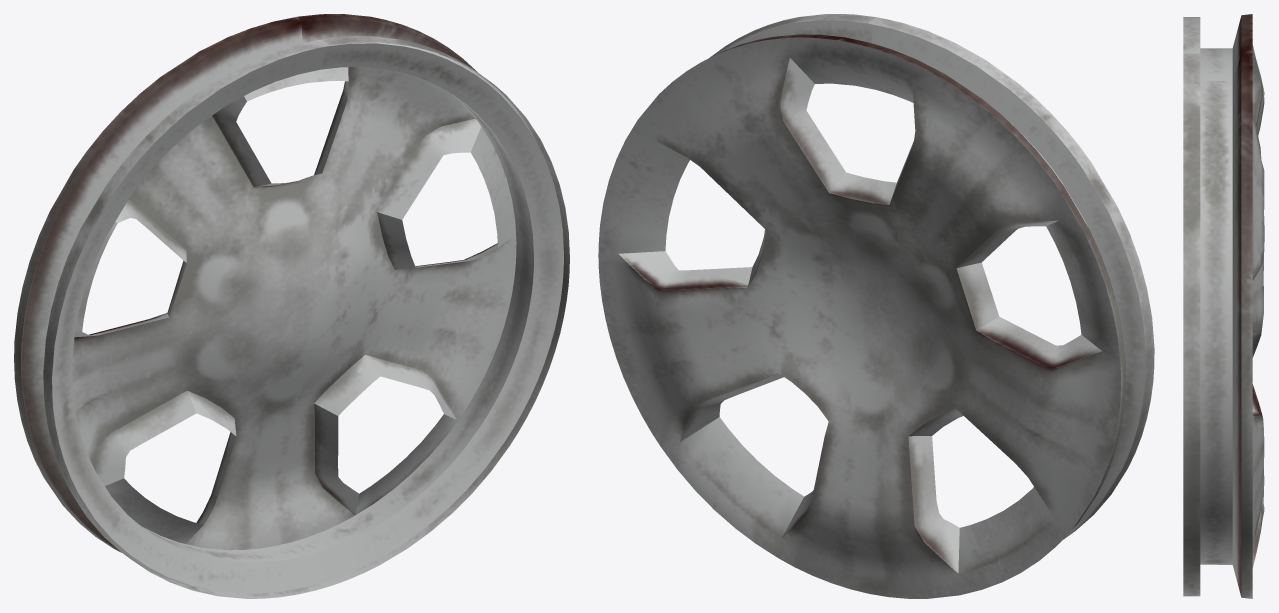
File: Prop_Rim_2.fbx
3 renders of one model, left to right at view 1: azimuth 30°, elevation 25°; view 2: azimuth 150°, elevation 25°; view 3: azimuth 270°, elevation 25°, orthographic. The views are drawn at different scales.
Visible parts, largest first — view 1: Prop_Rim_2; view 2: Prop_Rim_2; view 3: Prop_Rim_2.
Part boxes in pixels (<box>): Prop_Rim_2: <box>14,14,569,598</box>; Prop_Rim_2: <box>598,14,1154,598</box>; Prop_Rim_2: <box>1183,14,1264,598</box>.
Bounding box in the file's own units: 30.98 × 30.97 × 4.3.
